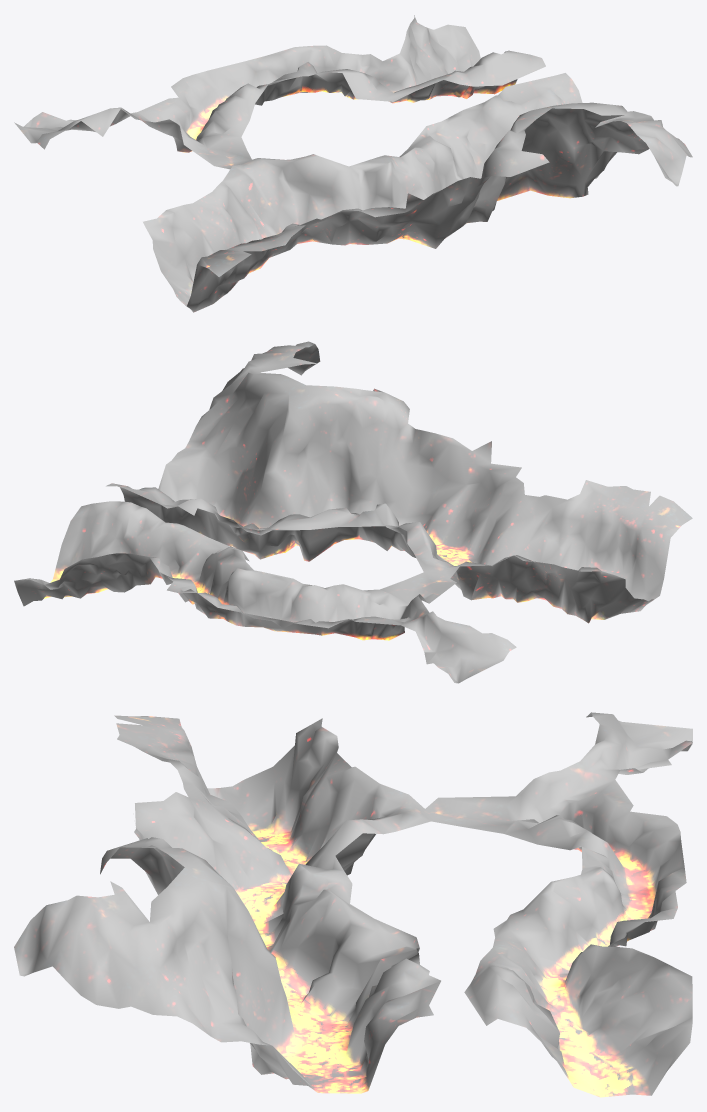
Rendered from DF_C_Lava_Floor.fbx.
The picture shows the model from 3 angles, top to bottom: view 1: azimuth 30°, elevation 25°; view 2: azimuth 150°, elevation 25°; view 3: azimuth 270°, elevation 25°; orthographic projection. The views are drawn at different scales.
Visible parts, largest first — view 1: DF_C_Lava_Floor; view 2: DF_C_Lava_Floor; view 3: DF_C_Lava_Floor.
Boxes of the visible parts, bbox=[...] form: DF_C_Lava_Floor: bbox=[14, 15, 692, 312]; DF_C_Lava_Floor: bbox=[14, 341, 692, 683]; DF_C_Lava_Floor: bbox=[14, 712, 692, 1097].
Size of the model in its own units: 25911 by 7016 by 24394.
